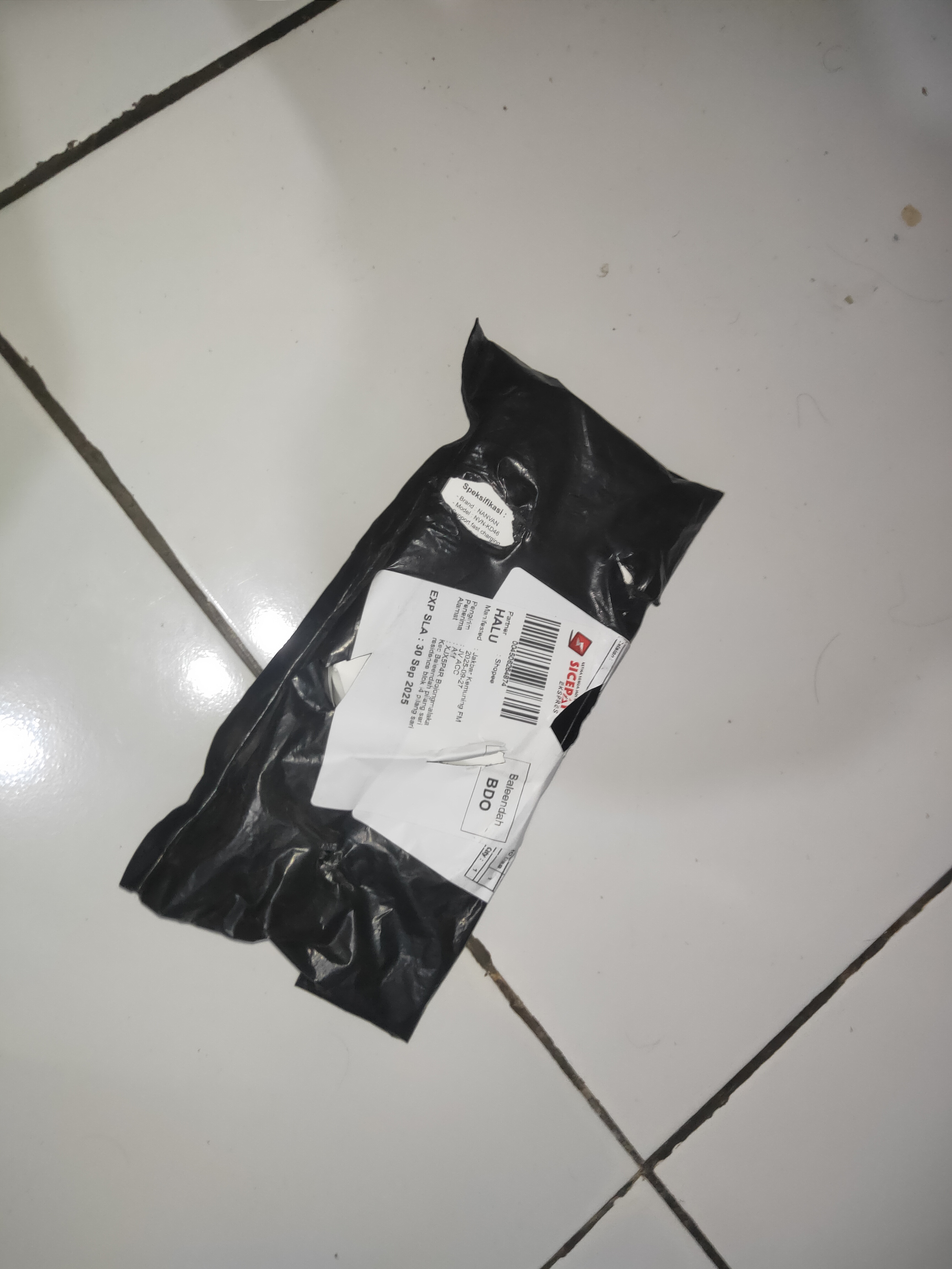damaged package: (436, 469, 521, 547), (547, 687, 605, 754), (321, 649, 373, 712), (427, 741, 508, 766), (611, 550, 649, 601), (314, 839, 339, 881)
undamaged: (118, 326, 723, 1046)
